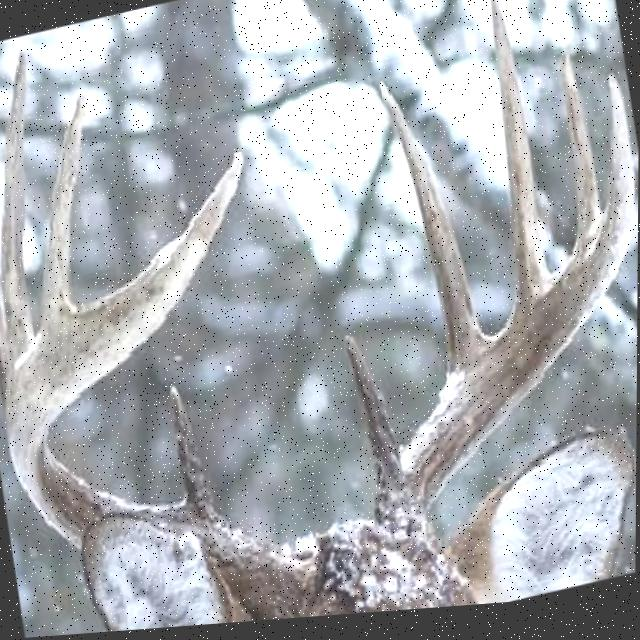L-F: (7, 154, 326, 625)
L-G1: (168, 387, 221, 520)
L-G2: (0, 308, 16, 413)
L-G3: (0, 51, 36, 376)
L-G4: (37, 95, 92, 338)
R-F: (376, 81, 637, 547)
R-G1: (345, 338, 405, 489)
R-G2: (380, 86, 491, 390)
R-G3: (488, 0, 551, 308)
R-G4: (558, 60, 604, 267)
